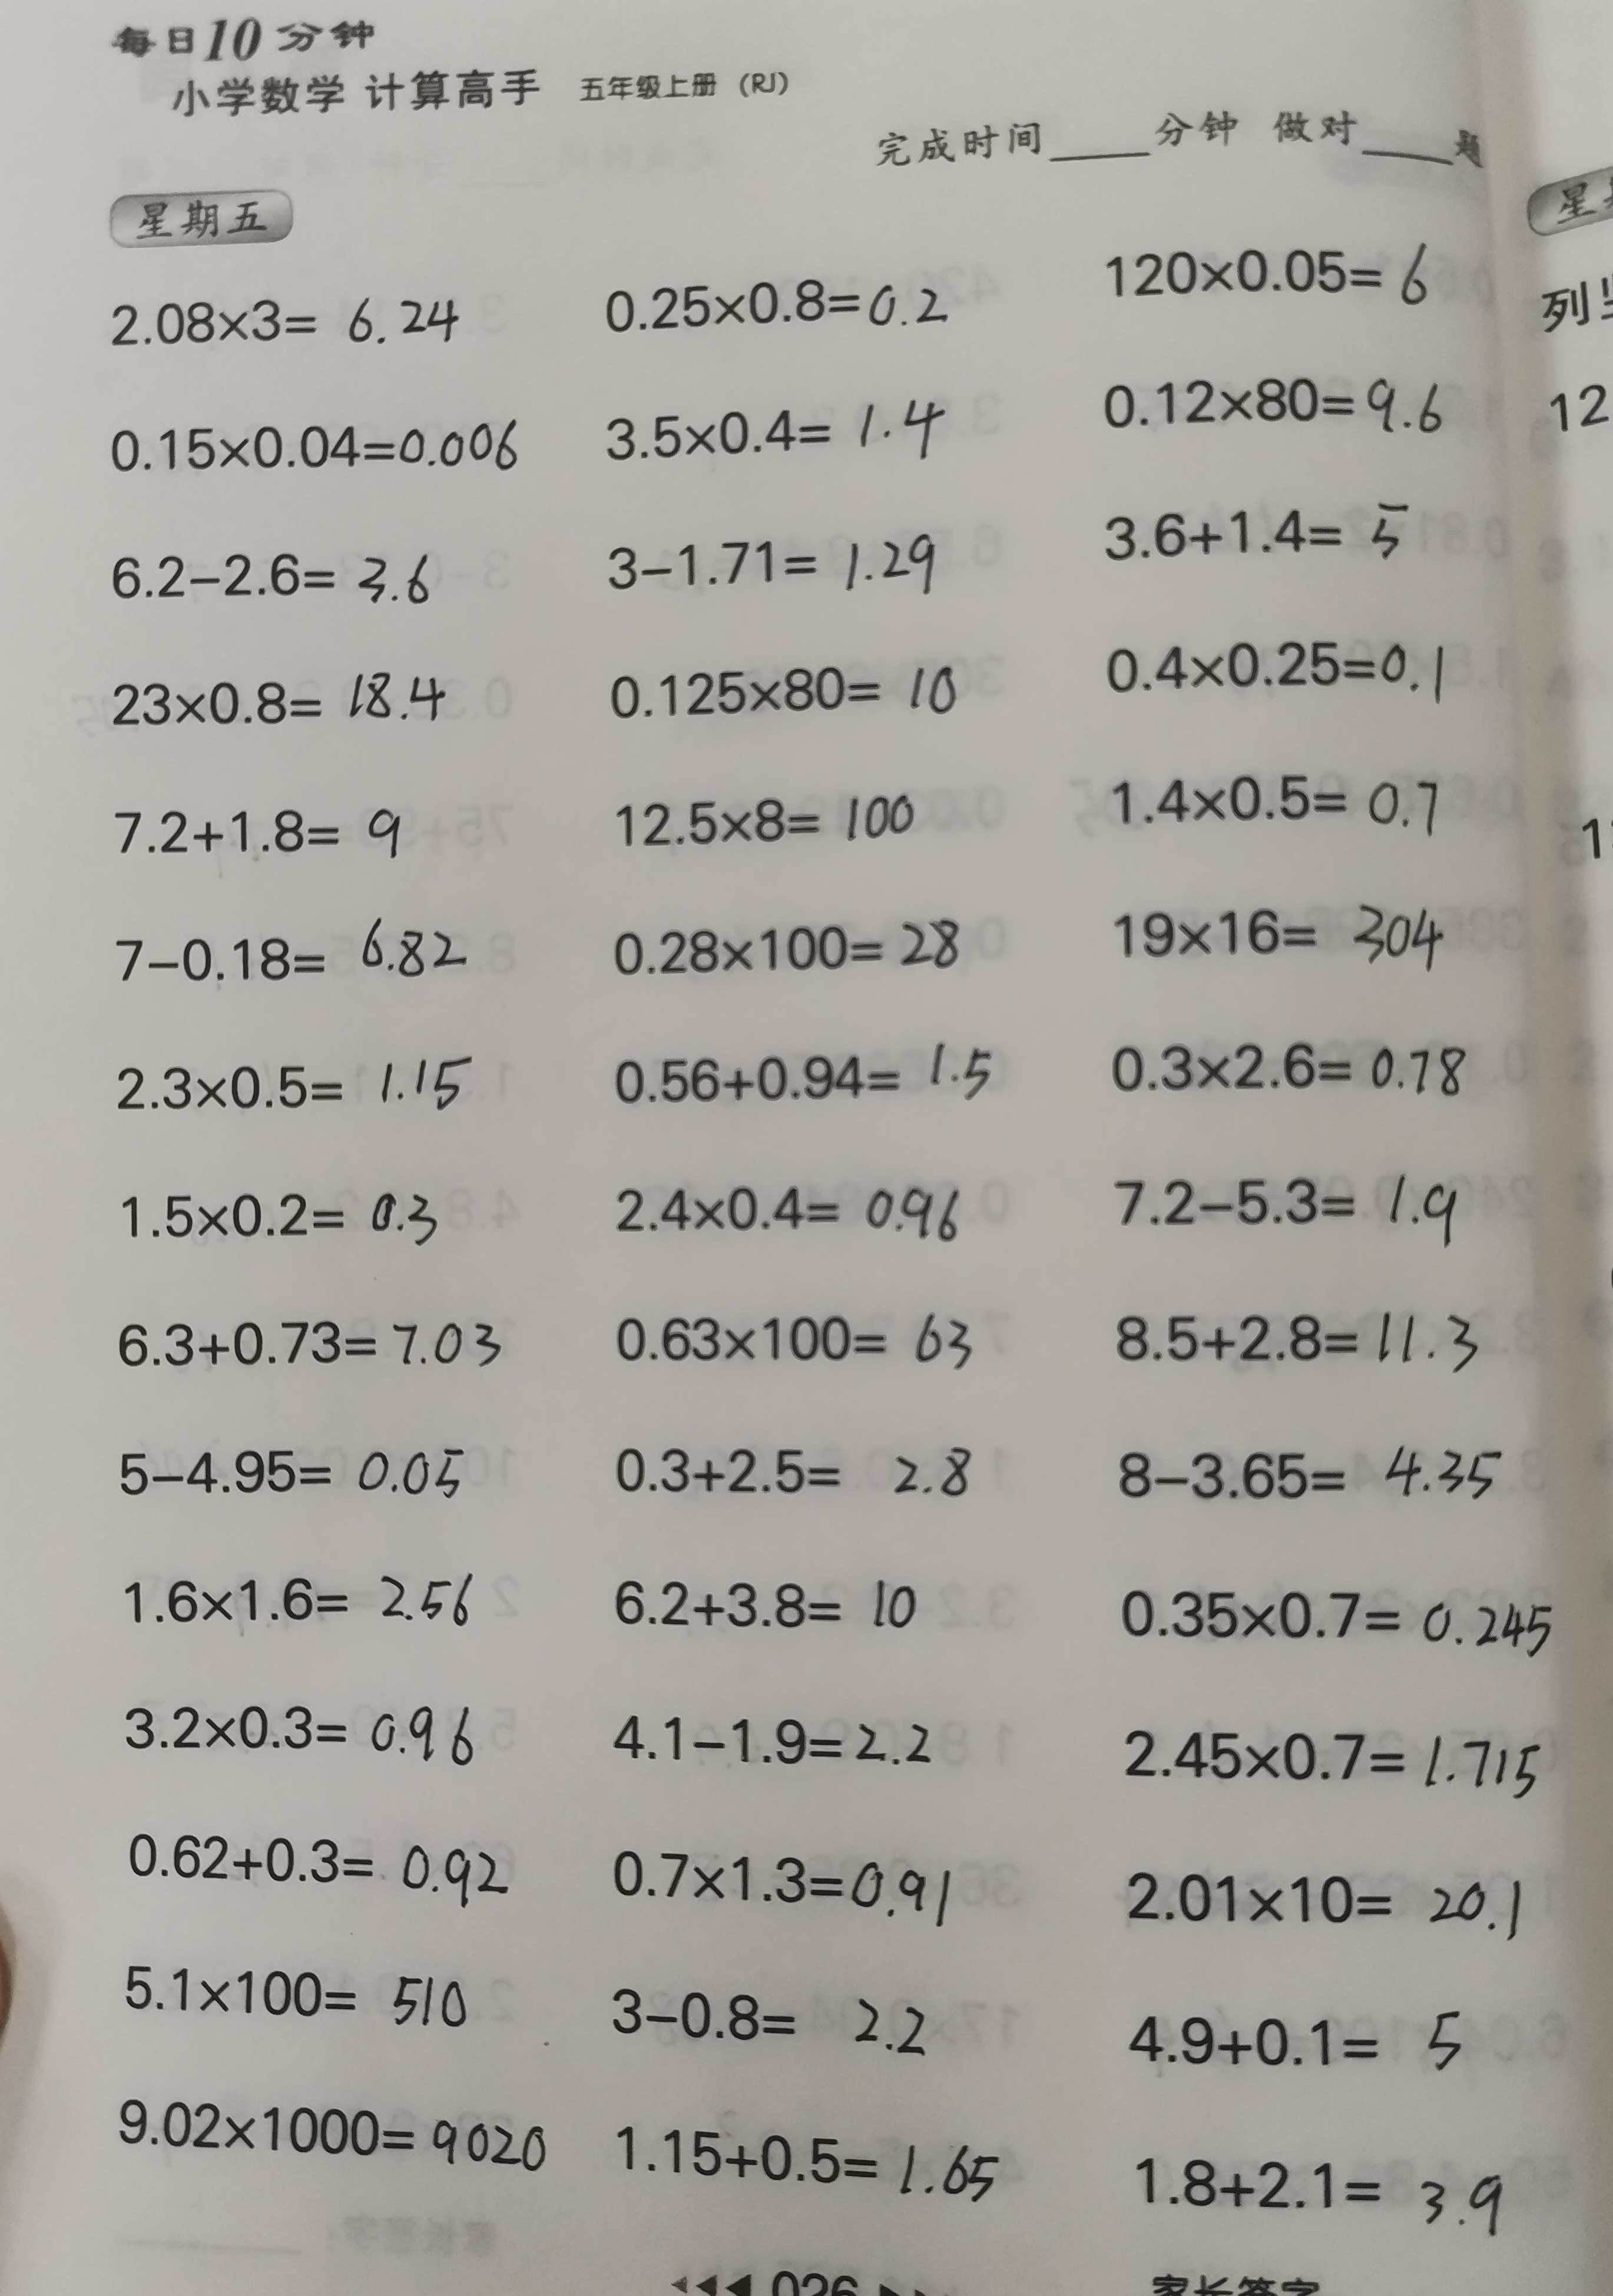equation: (1098, 1835, 1562, 1952), (1091, 1570, 1575, 1678), (1115, 2120, 1524, 2244), (96, 2079, 562, 2183), (597, 2106, 1018, 2217), (1107, 1713, 1566, 1814), (583, 1961, 965, 2081), (96, 1811, 536, 1914), (597, 1283, 1004, 1390), (592, 1154, 1000, 1257), (96, 1940, 494, 2041), (588, 1828, 978, 1931), (1102, 1154, 1480, 1257), (94, 1034, 494, 1130), (103, 1678, 506, 1772), (1098, 1016, 1486, 1112), (594, 644, 988, 739), (588, 1030, 1021, 1116), (594, 395, 1000, 485), (1091, 1428, 1522, 1514), (1082, 477, 1451, 576), (583, 1690, 965, 1784), (108, 1557, 511, 1646), (1082, 356, 1463, 450), (1112, 1987, 1493, 2081), (108, 1301, 520, 1386), (594, 913, 997, 1000), (1091, 760, 1463, 854), (96, 1428, 498, 1516), (592, 519, 962, 613), (592, 772, 941, 871), (94, 910, 499, 995), (601, 1428, 1000, 1514), (585, 262, 978, 347), (1103, 1301, 1510, 1383), (1086, 622, 1466, 709), (1098, 885, 1468, 974), (91, 409, 532, 482), (594, 1552, 944, 1643), (96, 780, 443, 871), (96, 536, 450, 622), (1082, 236, 1451, 318), (100, 662, 468, 742), (91, 1177, 480, 1252), (94, 283, 471, 356)
